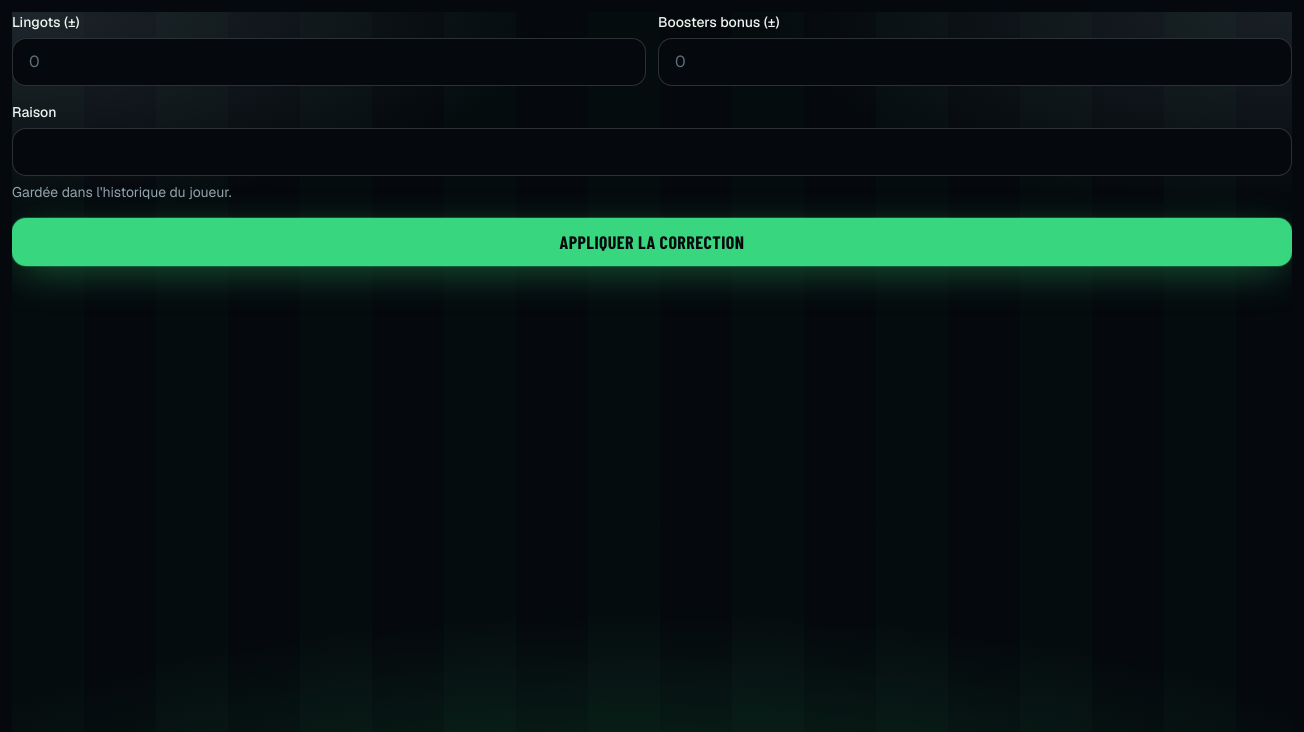
Test case: formulaires d'administration › montre l'erreur d'un champ et l'erreur générale
// Le champ est obligatoire : sans lui, le navigateur bloque l'envoi.
Type "x" into the field labelled "Raison". click: (652, 152)
box: x1=12 y1=128 x2=1292 y2=176
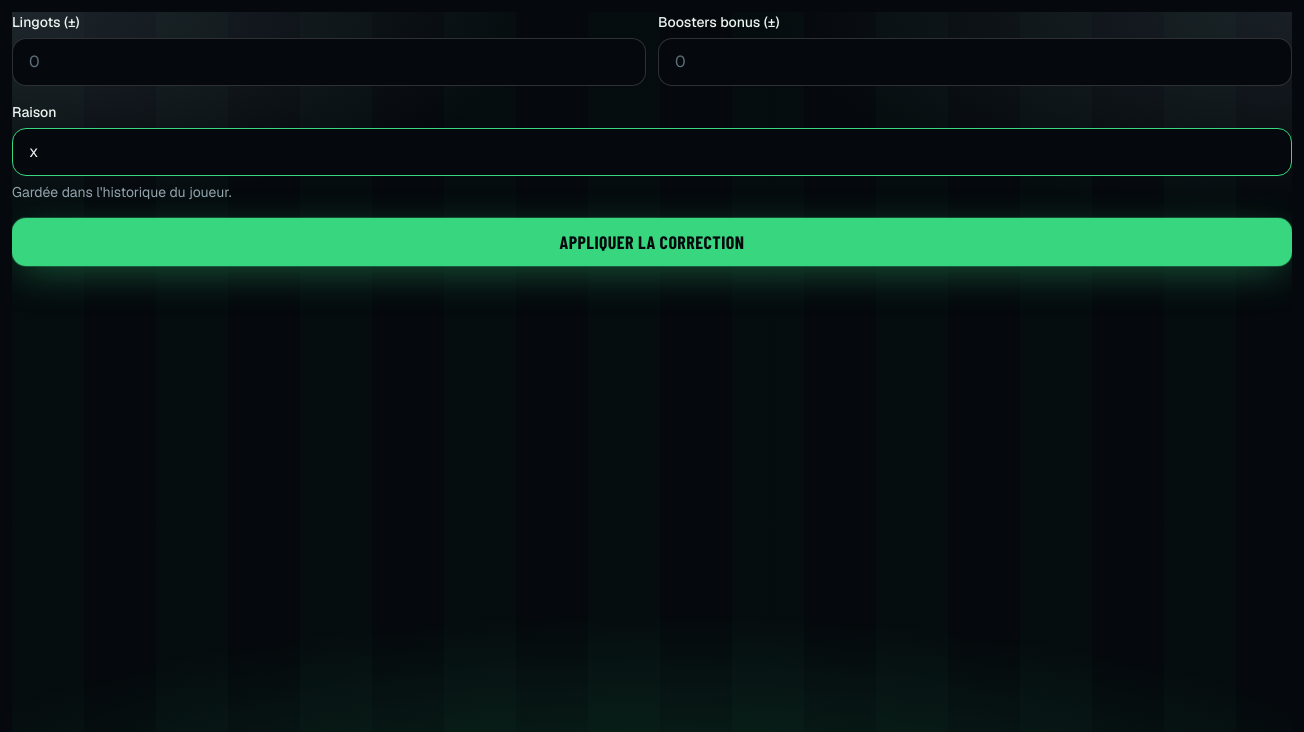
Click the button "Appliquer la correction". click: (652, 242)
box: x1=12 y1=218 x2=1292 y2=266
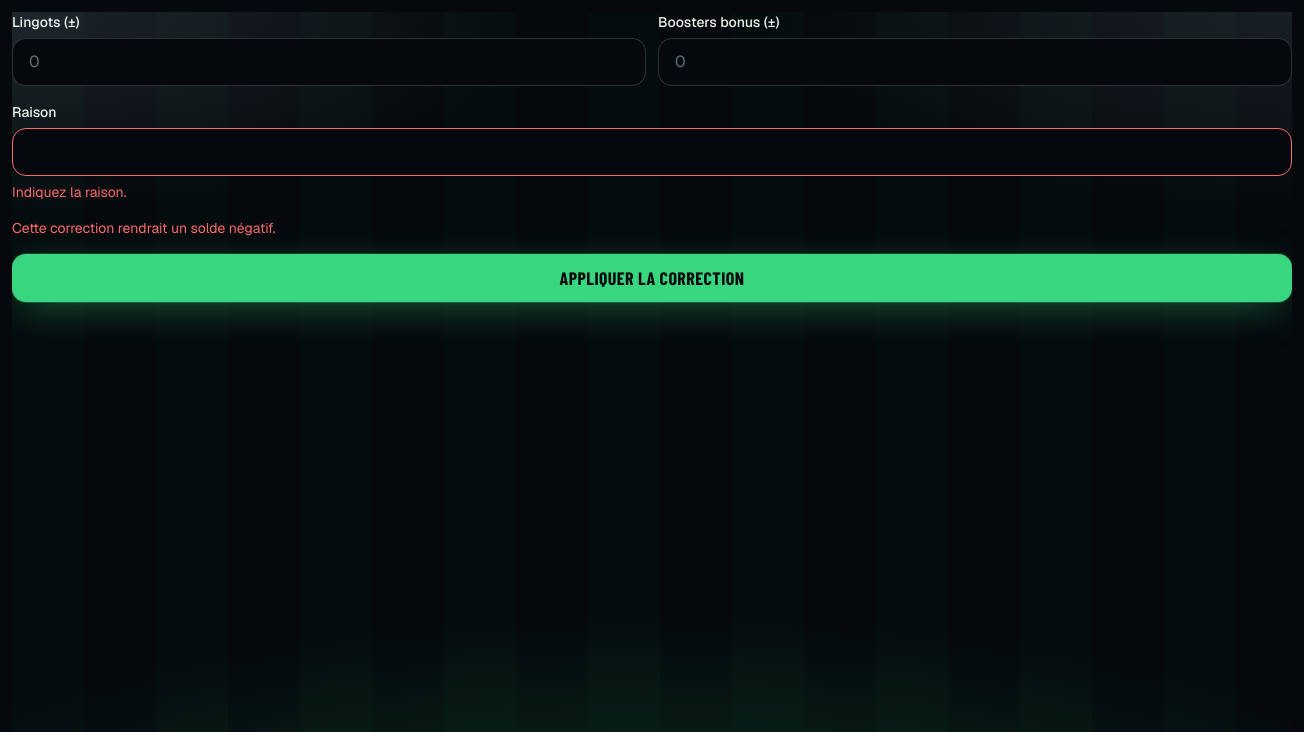
Now the message shows "solde négatif", box x1=12 y1=219 x2=275 y2=237
Now the text "Indiquez la raison." is shown, box x1=12 y1=183 x2=126 y2=201
